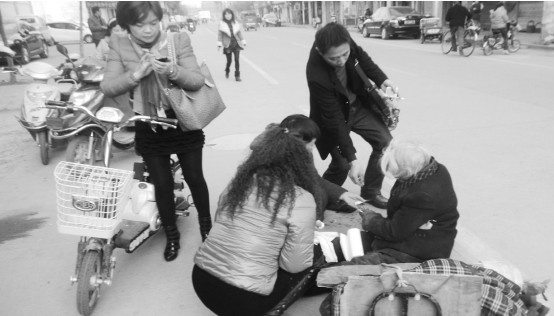falling: (324, 131, 468, 292)
